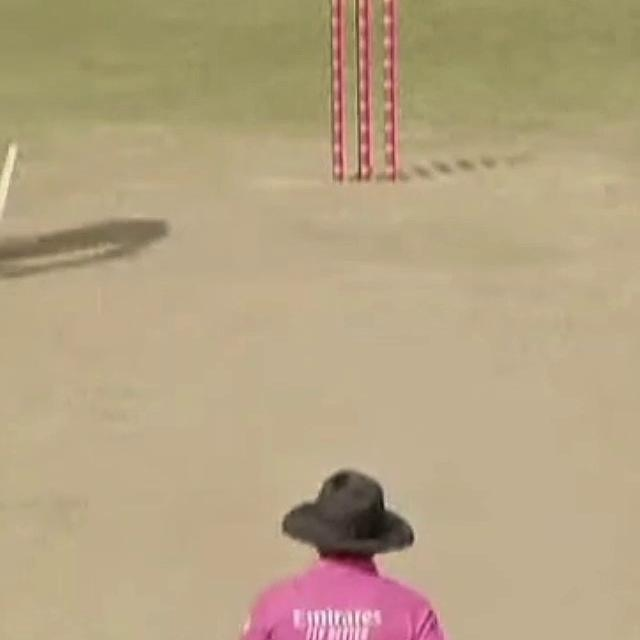umpire: (185, 460, 460, 640)
